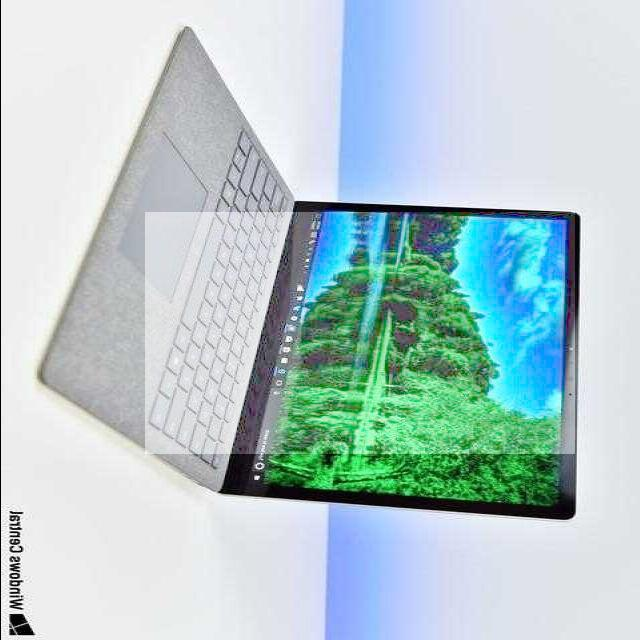-keyboard-: (145, 212, 575, 454)
